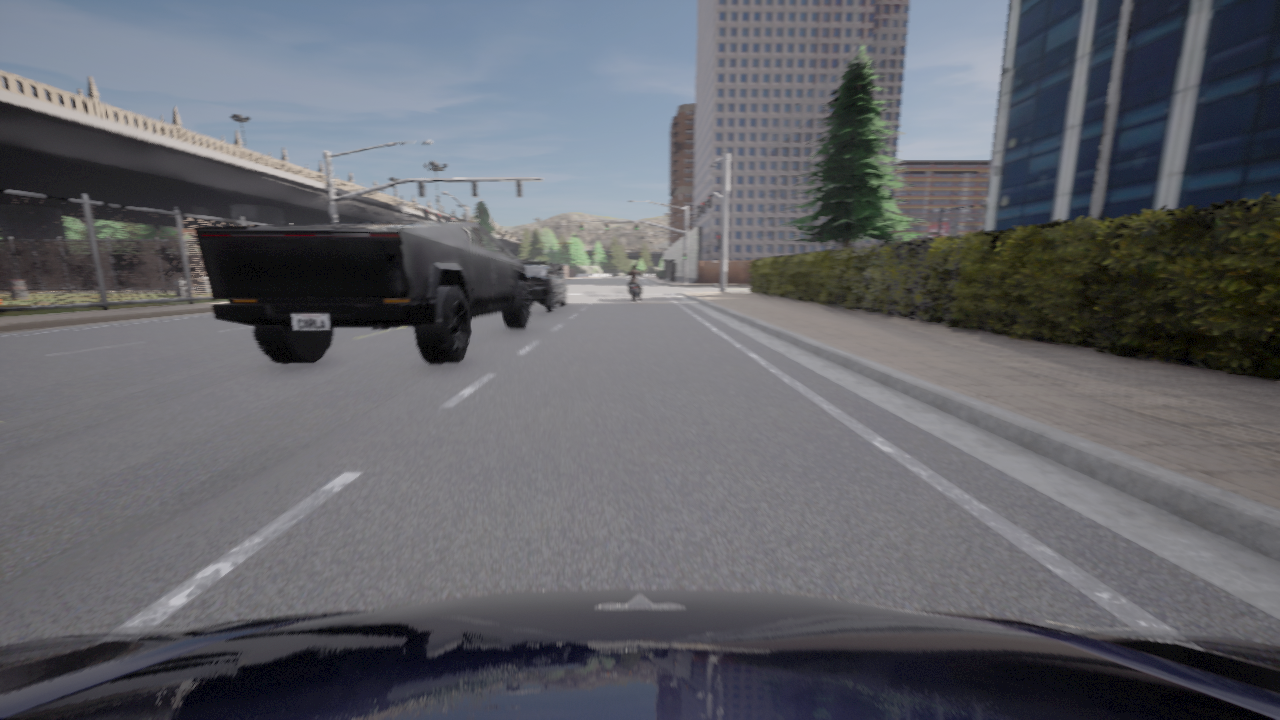cyclist: (0, 588, 1279, 719), (195, 221, 529, 363), (519, 260, 566, 311), (80, 269, 152, 288), (629, 275, 639, 300)
